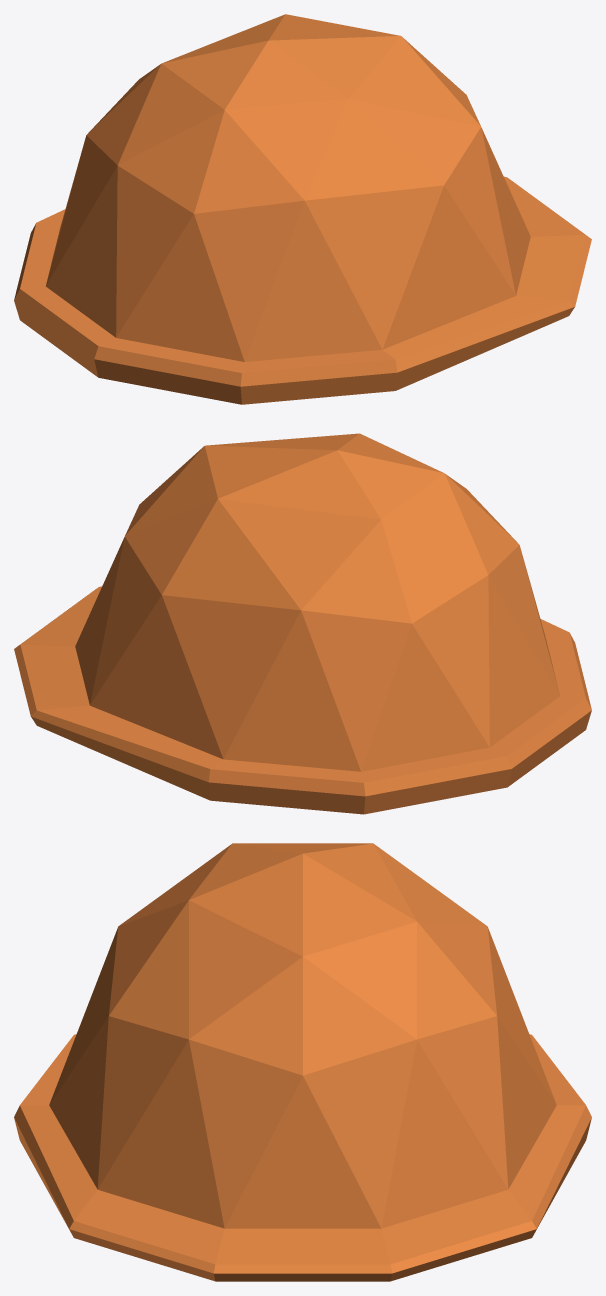
File: Helmet.fbx
3 views of the same model, one above another, from view 1: azimuth 30°, elevation 25°; view 2: azimuth 150°, elevation 25°; view 3: azimuth 270°, elevation 25° (orthographic). The views are drawn at different scales.
Visible parts, largest first — view 1: Helmet; view 2: Helmet; view 3: Helmet.
Boxes of the visible parts, box(x1,y1,x2,y2) form: Helmet: box(14, 14, 591, 404); Helmet: box(14, 433, 591, 814); Helmet: box(14, 843, 591, 1281).
Bounding box in the file's own units: 89.97 × 44.45 × 81.19.
